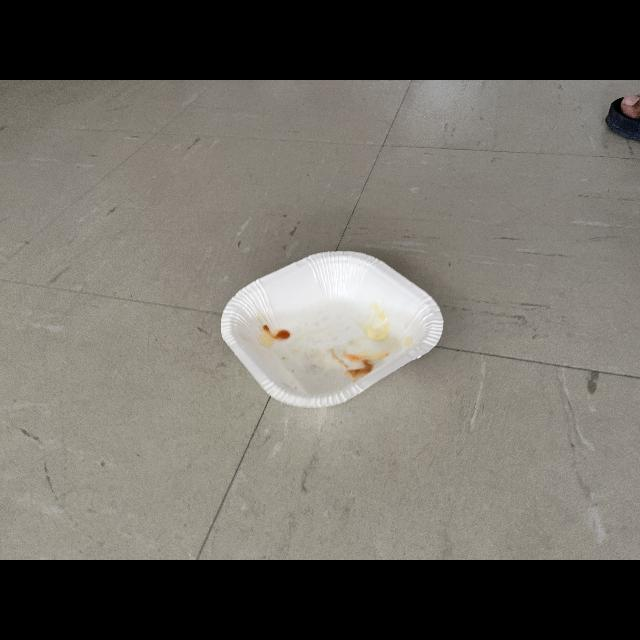cardboard_bowl: (215, 240, 449, 412)
